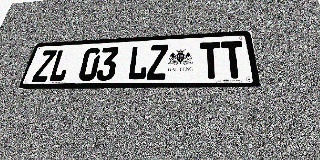0: (77, 48, 102, 81)
3: (95, 47, 119, 81)
L: (47, 49, 73, 82), (127, 45, 149, 80)
T: (221, 41, 246, 78), (200, 42, 223, 79)
Z: (31, 50, 57, 82), (146, 44, 168, 80)
